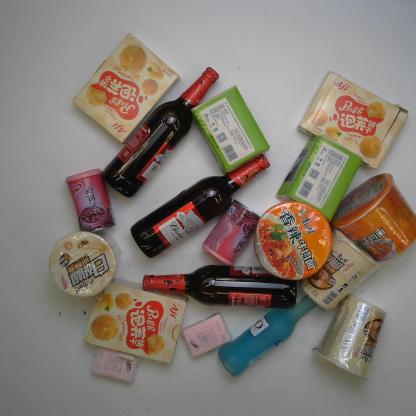Alcohol: (98, 63, 223, 200), (128, 152, 271, 260), (216, 282, 336, 381), (138, 264, 302, 312)
Canned Food: (201, 195, 264, 268), (64, 163, 119, 234)
Dessert: (72, 28, 184, 145), (295, 69, 410, 171), (80, 276, 192, 368)
Instant Noodles: (326, 172, 416, 262), (298, 224, 384, 313), (309, 290, 390, 382), (252, 199, 335, 280), (48, 230, 119, 301)
Tissue: (274, 132, 363, 226), (189, 80, 273, 177), (179, 310, 234, 360), (89, 340, 142, 384)
